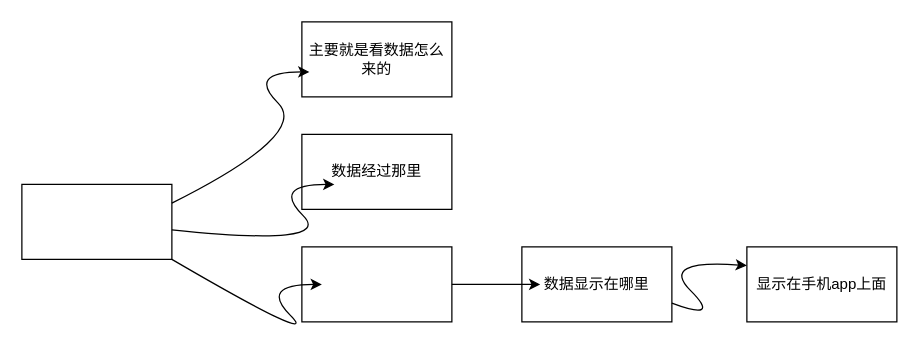
Image size: 919x346. Some labels were removed from this diagram. Here are the shapes that lost their labels. From the top down, the centre of each, then its label:
At point (96, 221): "业务测试".
At point (376, 284): "数据流向哪里".
